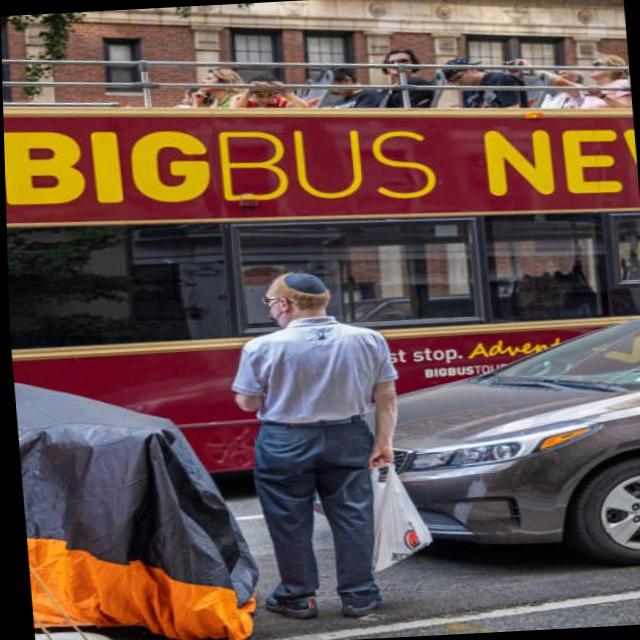no helmet: (245, 268, 357, 339)
